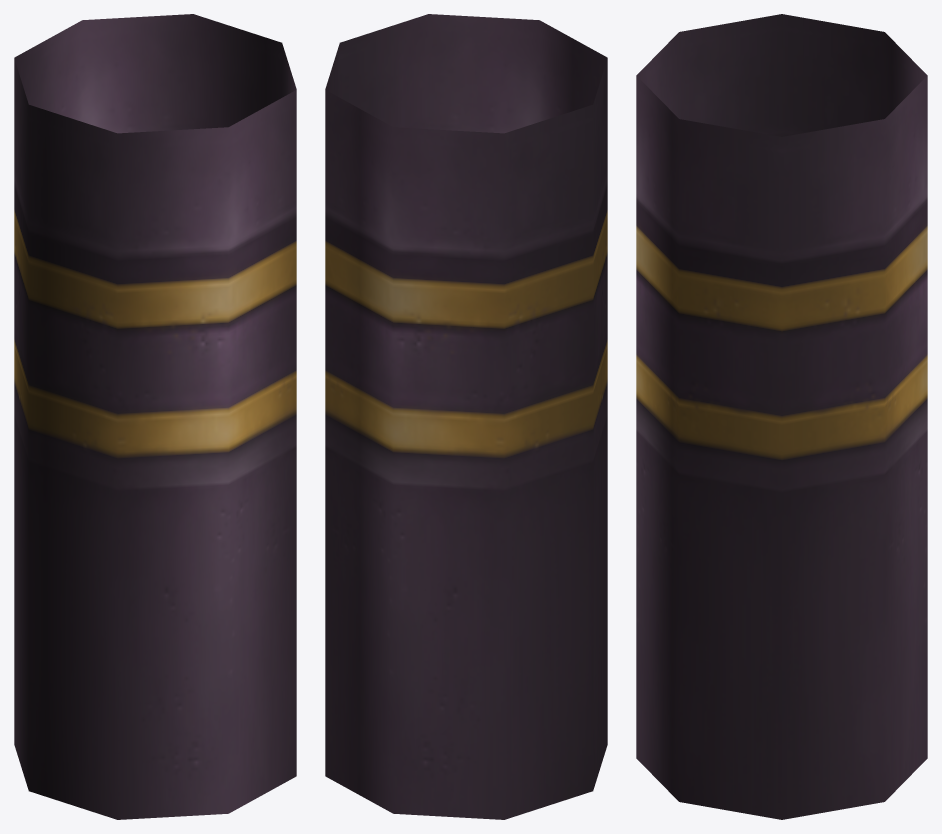
The model's file is xx_shuiguan2.FBX.
3 views of the same model, side by side, from view 1: azimuth 30°, elevation 25°; view 2: azimuth 150°, elevation 25°; view 3: azimuth 270°, elevation 25° (orthographic).
Parts seen in each view (by area): view 1: dj_shuiguan_02; view 2: dj_shuiguan_02; view 3: dj_shuiguan_02.
Part boxes in pixels (box(x1,y1,x2,y2)): dj_shuiguan_02: box(14, 14, 296, 819); dj_shuiguan_02: box(325, 14, 607, 819); dj_shuiguan_02: box(636, 14, 927, 819).
Bounding box in the file's own units: 0.7489 × 1.94 × 0.7489.
